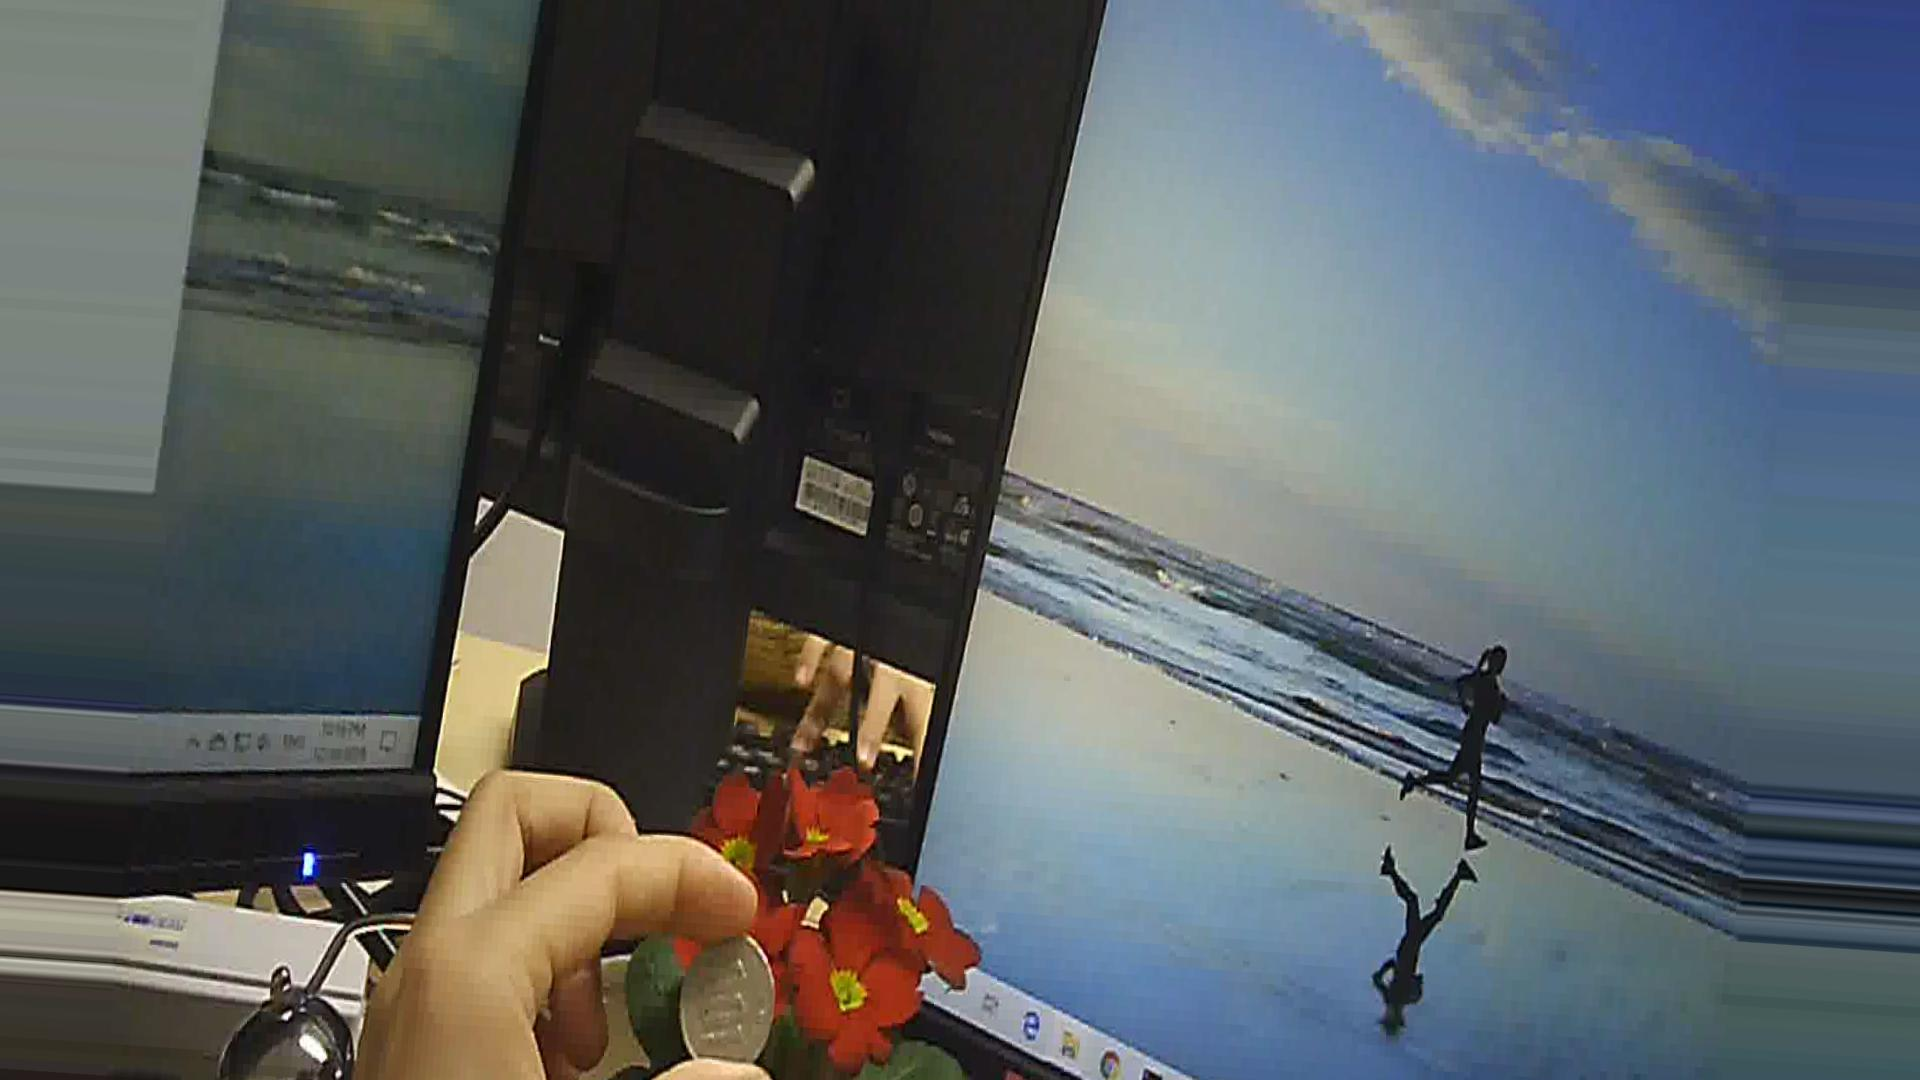100 Yen: (670, 916, 774, 1062)
